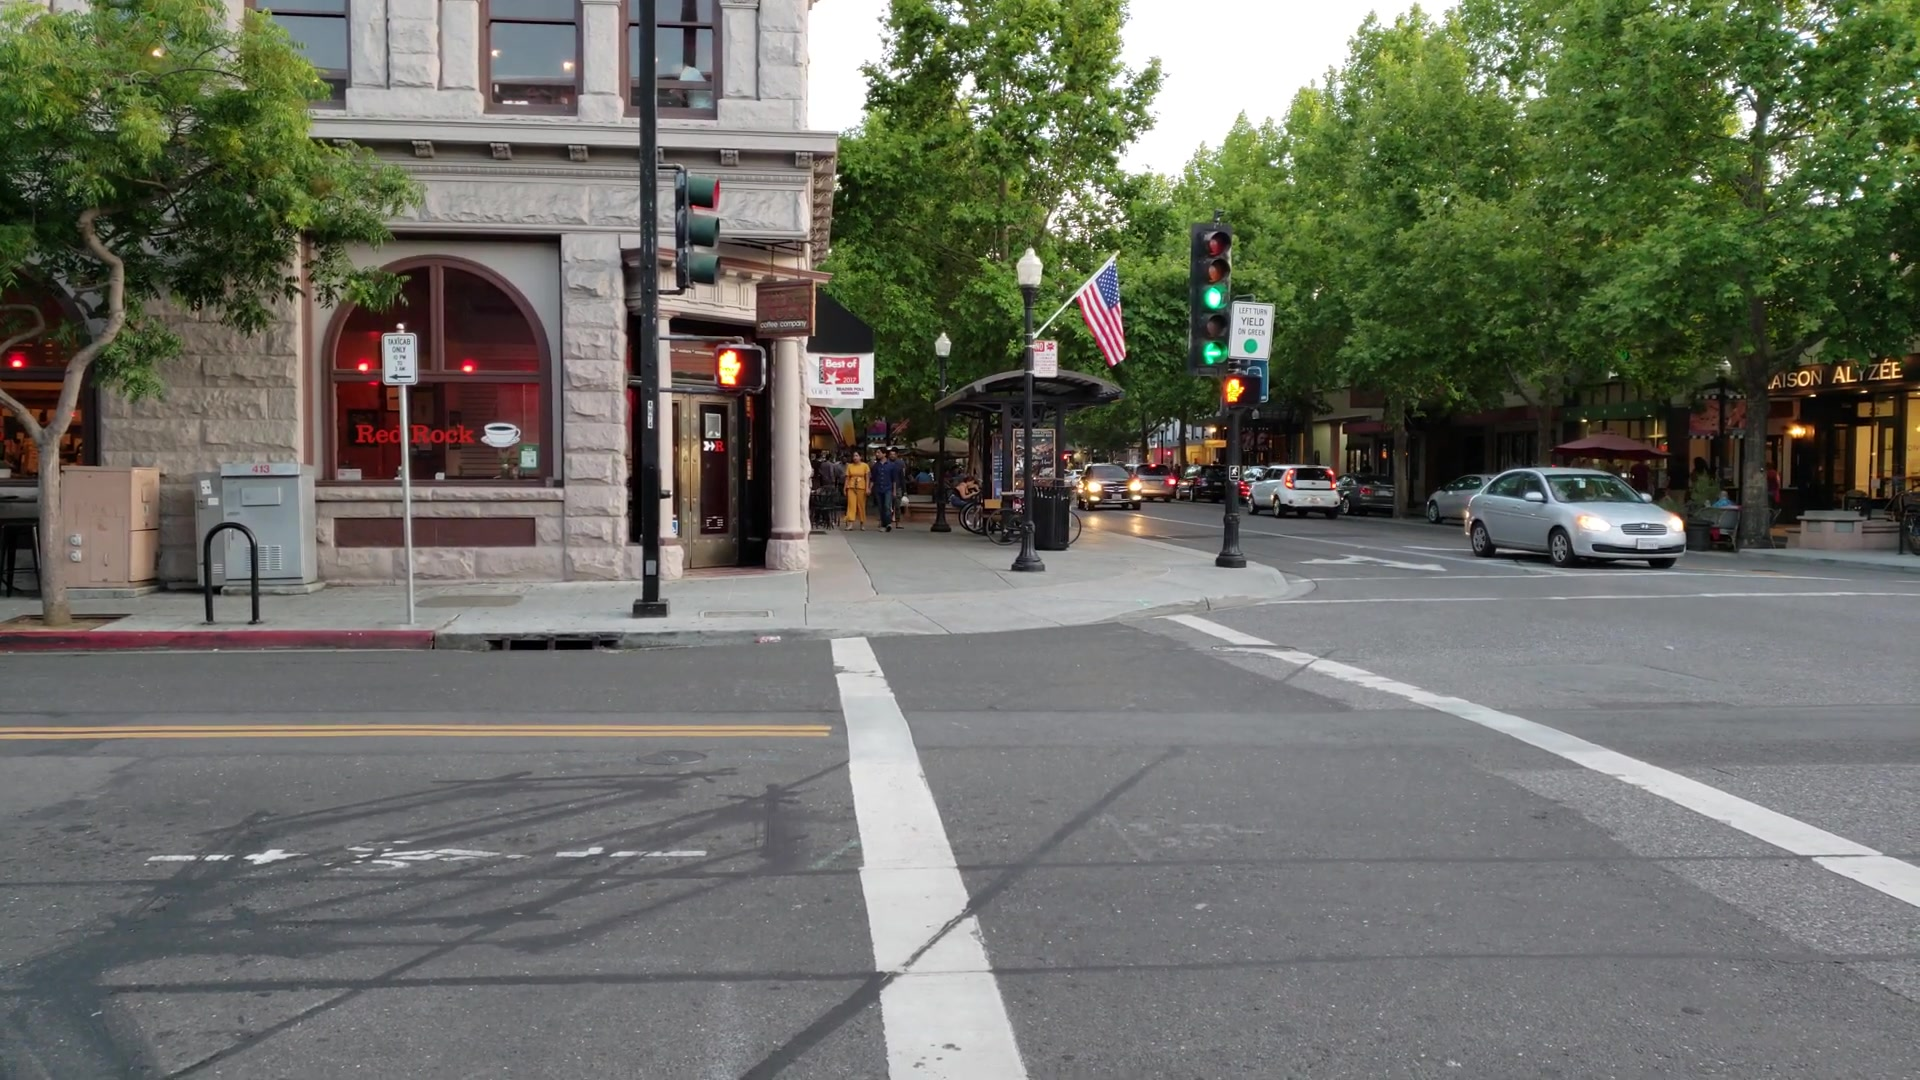vehicle: (1466, 467, 1688, 568), (1247, 465, 1338, 517), (1073, 464, 1142, 512)
